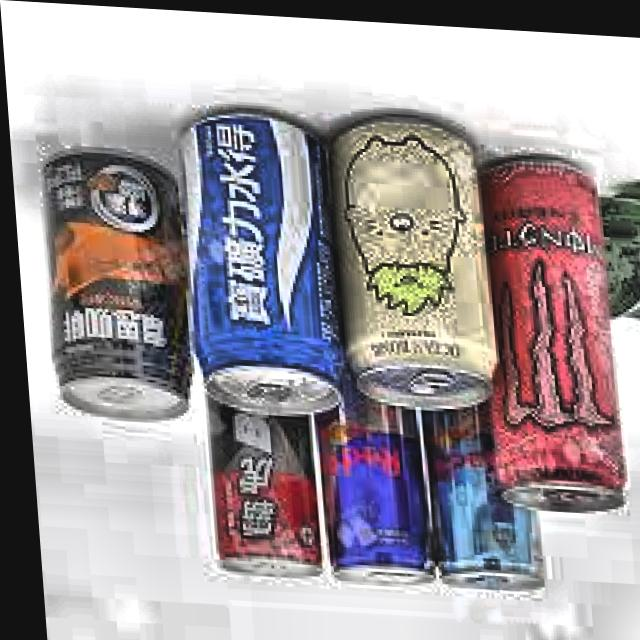can: (461, 141, 630, 521), (164, 96, 352, 421), (313, 102, 505, 418), (25, 141, 194, 430), (307, 381, 432, 591), (194, 384, 320, 588), (413, 394, 542, 593)
